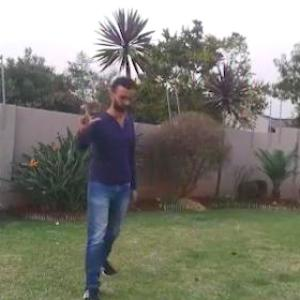land_hand: (75, 99, 105, 130)
